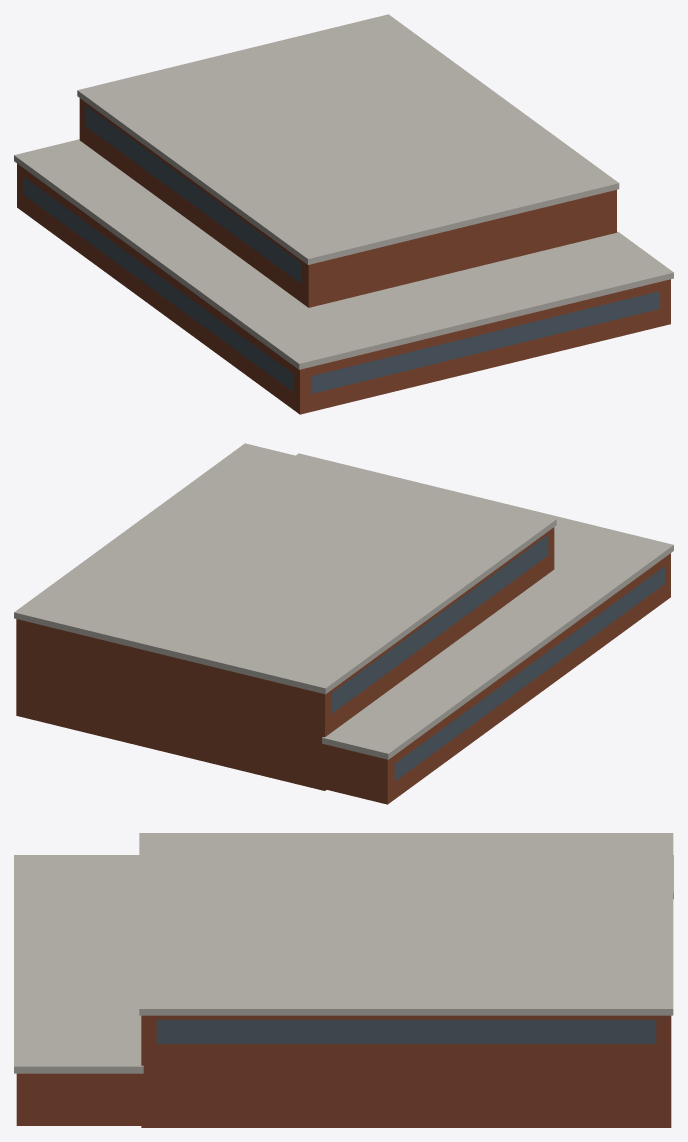
Rendered from lru-fieldhouse-1961.glb.
3 renders of one model, top to bottom at view 1: azimuth 30°, elevation 25°; view 2: azimuth 150°, elevation 25°; view 3: azimuth 270°, elevation 25°, orthographic. The views are drawn at different scales.
Visible parts, largest first — view 1: lru_fieldhouse_1961; view 2: lru_fieldhouse_1961; view 3: lru_fieldhouse_1961.
Boxes of the visible parts, x1,y1,x2,y2 form: lru_fieldhouse_1961: (14,14,673,414); lru_fieldhouse_1961: (14,443,673,804); lru_fieldhouse_1961: (14,833,673,1127).
Size of the model in its own units: 39.4 by 10.4 by 51.93.
